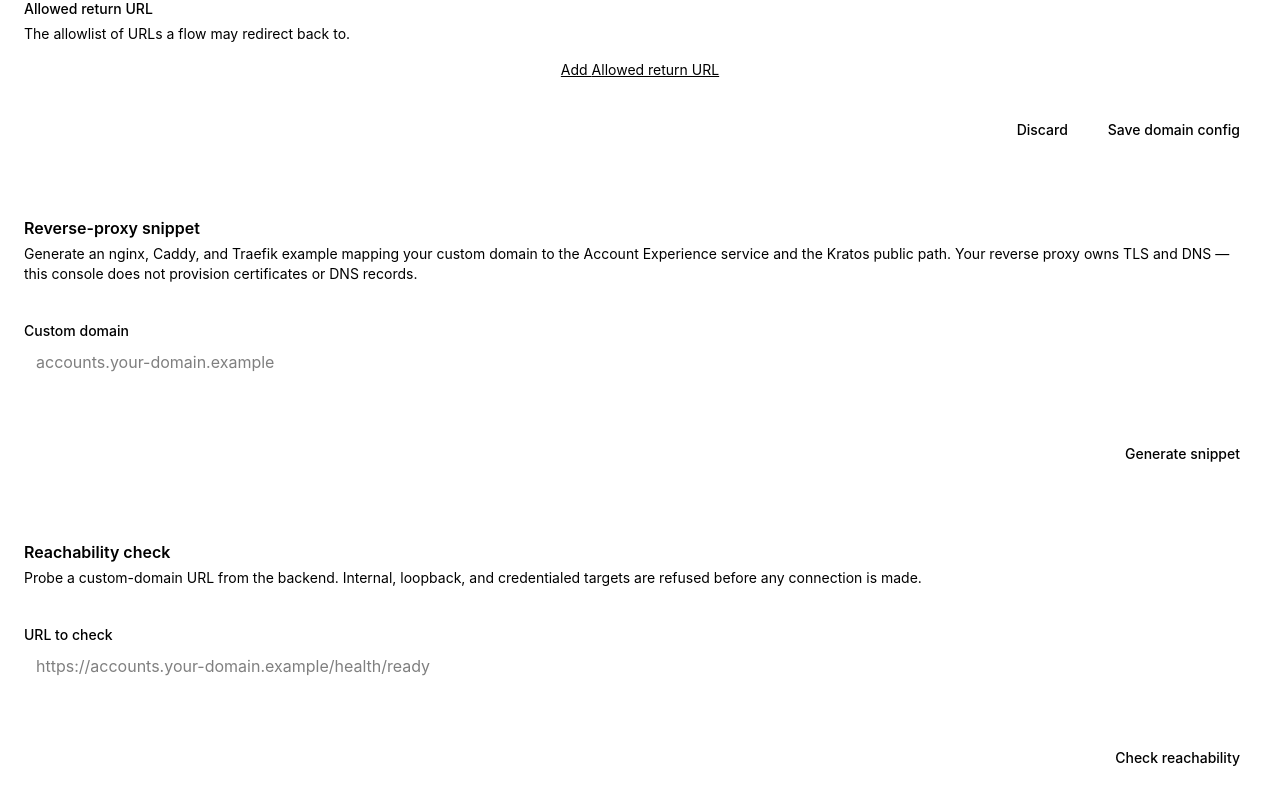
Test: Custom Domains page (AX-04) › routes the reachability check through lib/api (POST /api/account-experience/reachability)
(page scrolled)
Type "https://accounts.example.com/health/ready" into the field named "url to check for reachability" at (640, 666), box [24,648,1256,684]
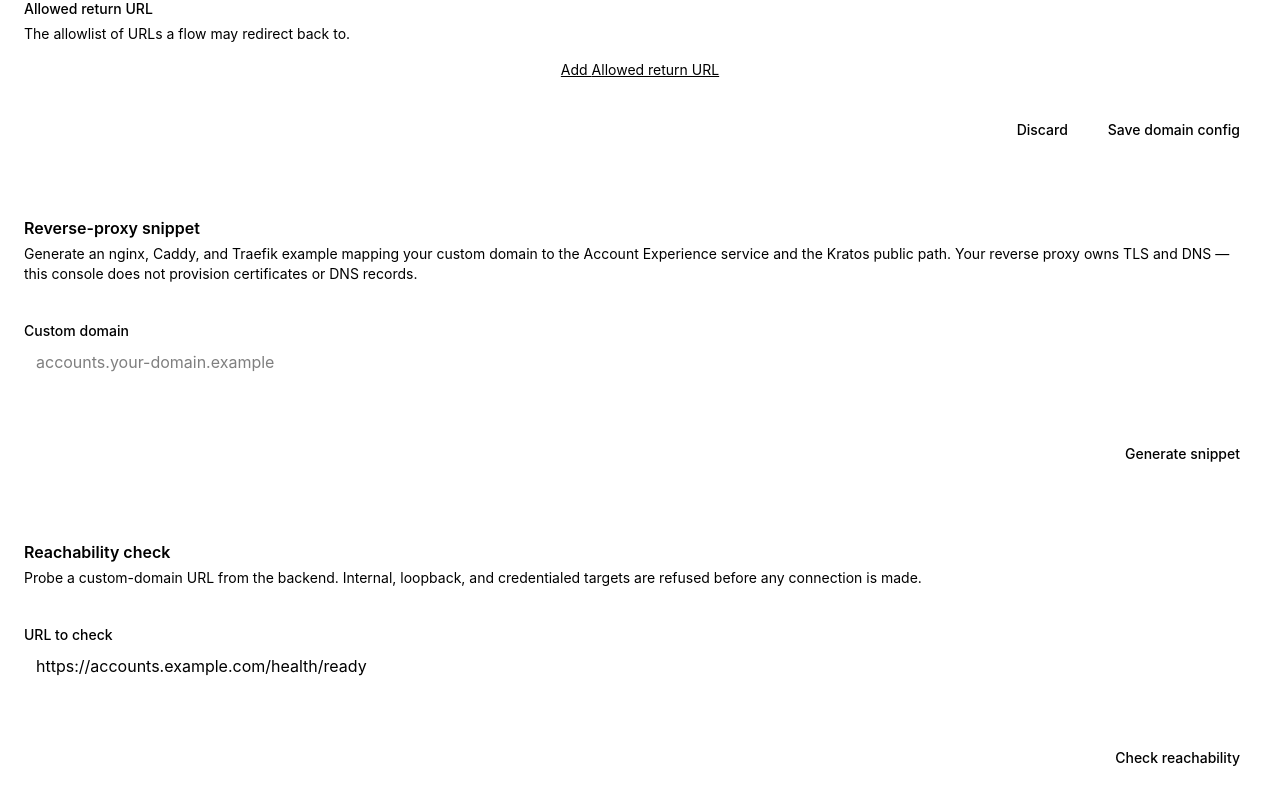
Click the button "Check reachability" at (1178, 758), box [1099,740,1256,776]
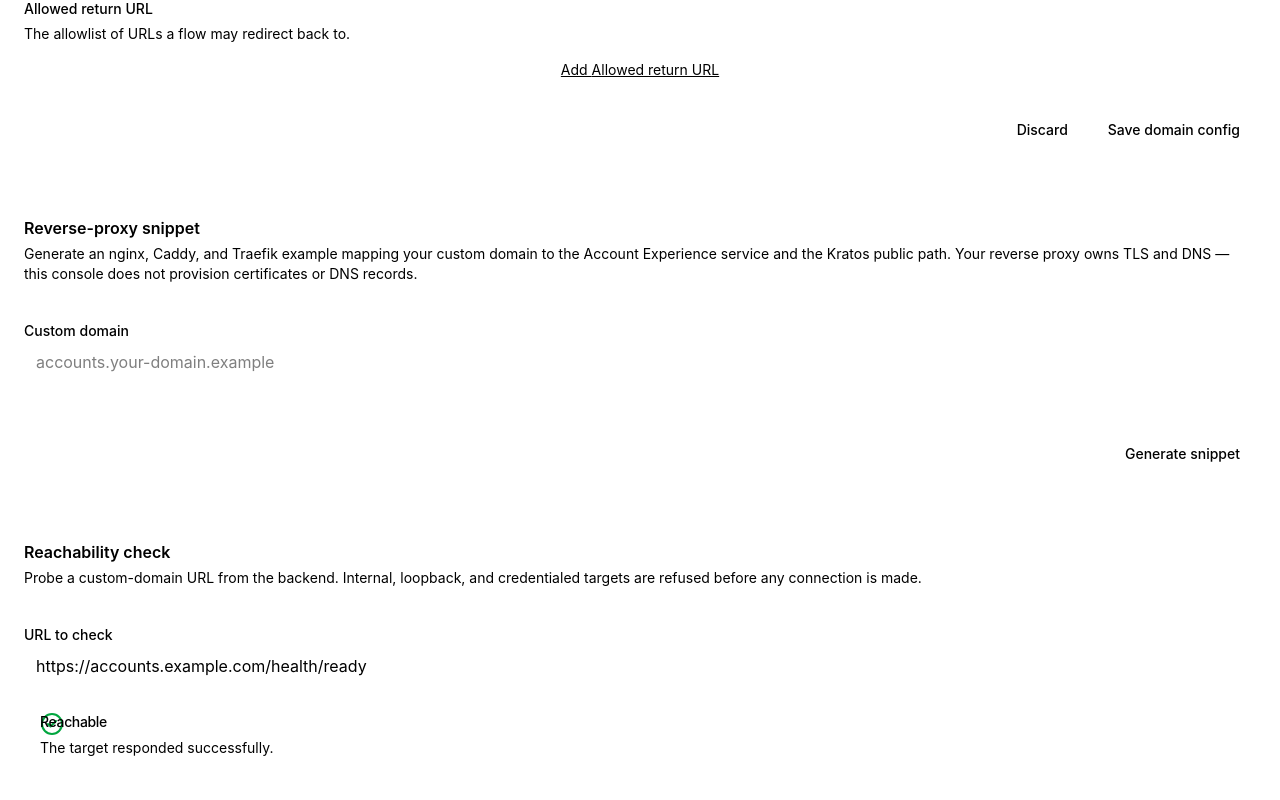
Now the heading "Reachable" is shown, box [40,713,107,730]
Now the text "The target responded successfully." is shown, box [40,739,274,756]
